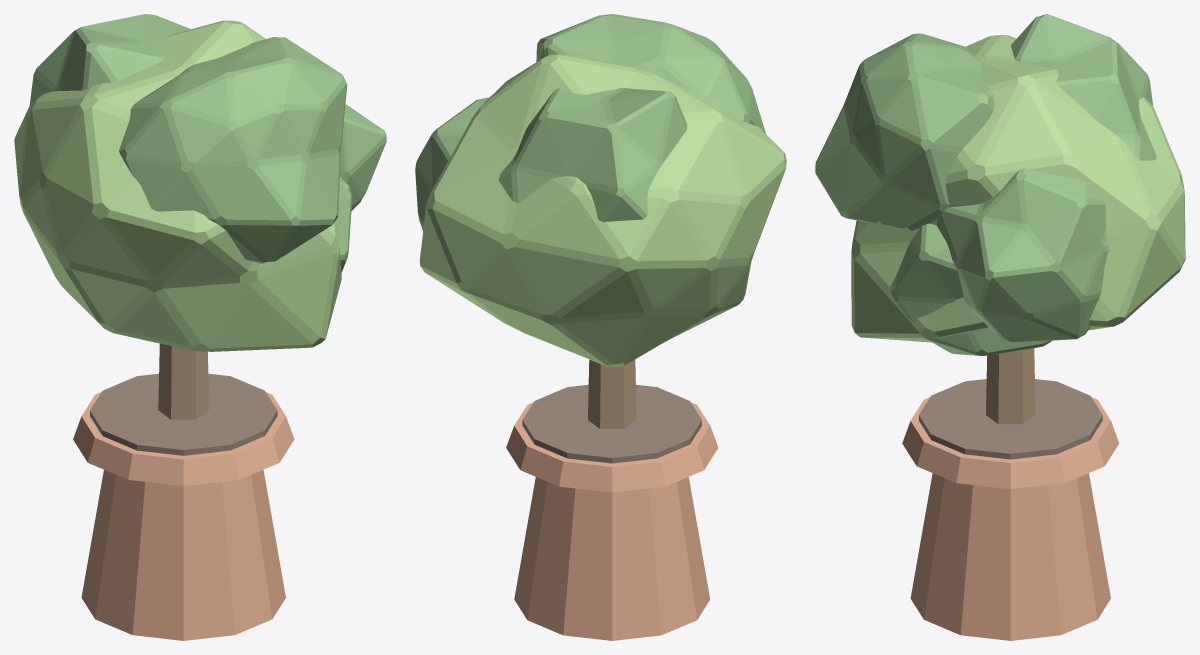
The model's file is Veg_Pot_Tree.fbx.
The picture shows the model from 3 angles, left to right: view 1: azimuth 30°, elevation 25°; view 2: azimuth 150°, elevation 25°; view 3: azimuth 270°, elevation 25°; orthographic projection. The views are drawn at different scales.
Visible parts, largest first — view 1: Veg_Pot_Tree_Veg, Veg_Pot_Tree; view 2: Veg_Pot_Tree_Veg, Veg_Pot_Tree; view 3: Veg_Pot_Tree_Veg, Veg_Pot_Tree.
Boxes of the visible parts, x1,y1,x2,y2 form: Veg_Pot_Tree_Veg: (14, 14, 386, 351); Veg_Pot_Tree: (73, 343, 294, 640); Veg_Pot_Tree_Veg: (415, 14, 786, 367); Veg_Pot_Tree: (506, 359, 718, 640); Veg_Pot_Tree_Veg: (815, 14, 1185, 355); Veg_Pot_Tree: (902, 348, 1119, 640).
Bounding box in the file's own units: 0.9061 × 1.46 × 0.8865.
